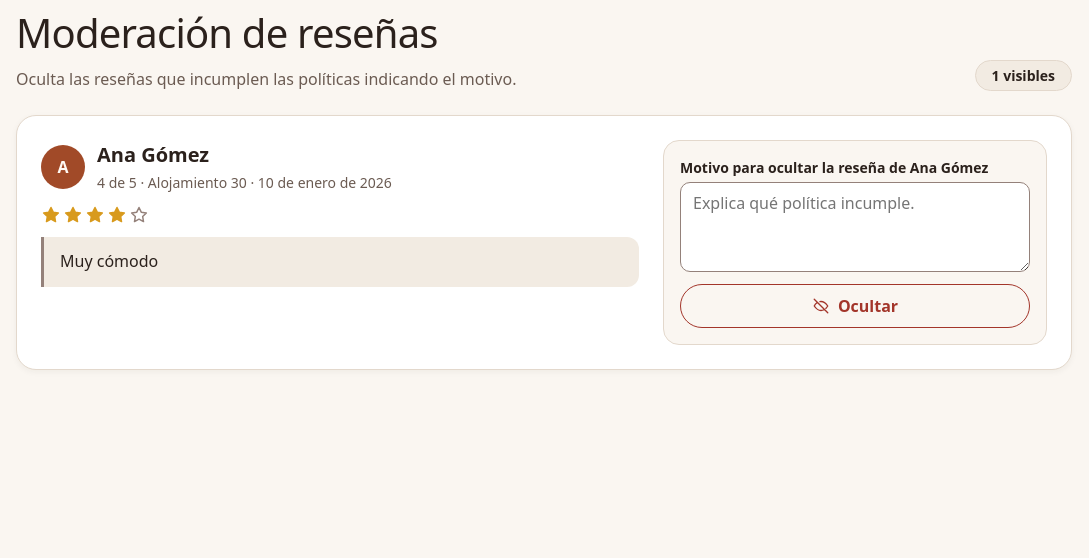
Scenario: ModeracionResenasPage › si la API rechaza la acción muestra su mensaje y conserva la reseña
Type "Ofensiva" into the text box labelled "Motivo para ocultar la reseña de Ana Gómez" at (855, 227), box [680,182,1030,272]
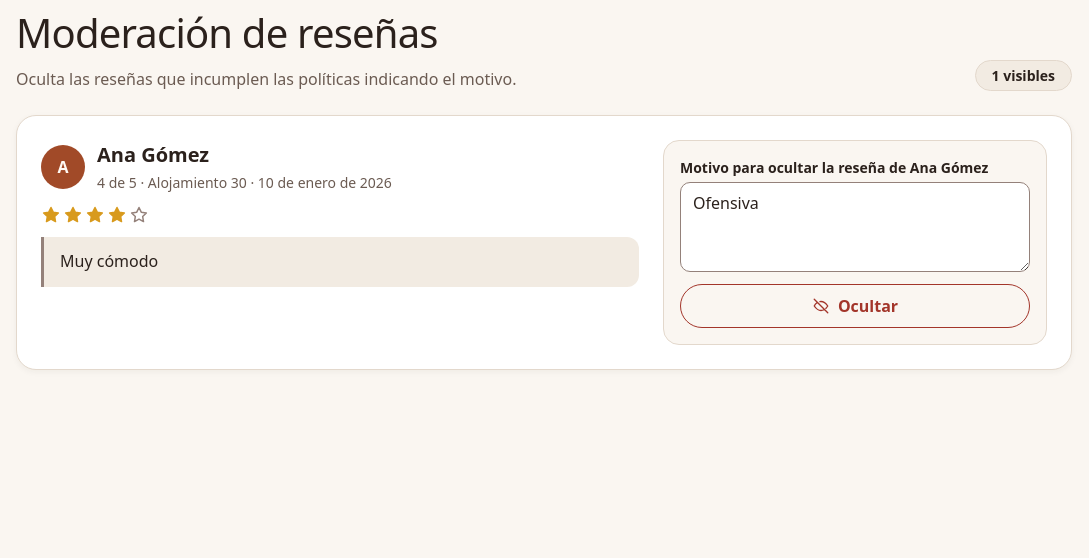
Click the button with aria-label "Ocultar la reseña de Ana Gómez" at (855, 306), box [680,284,1030,328]
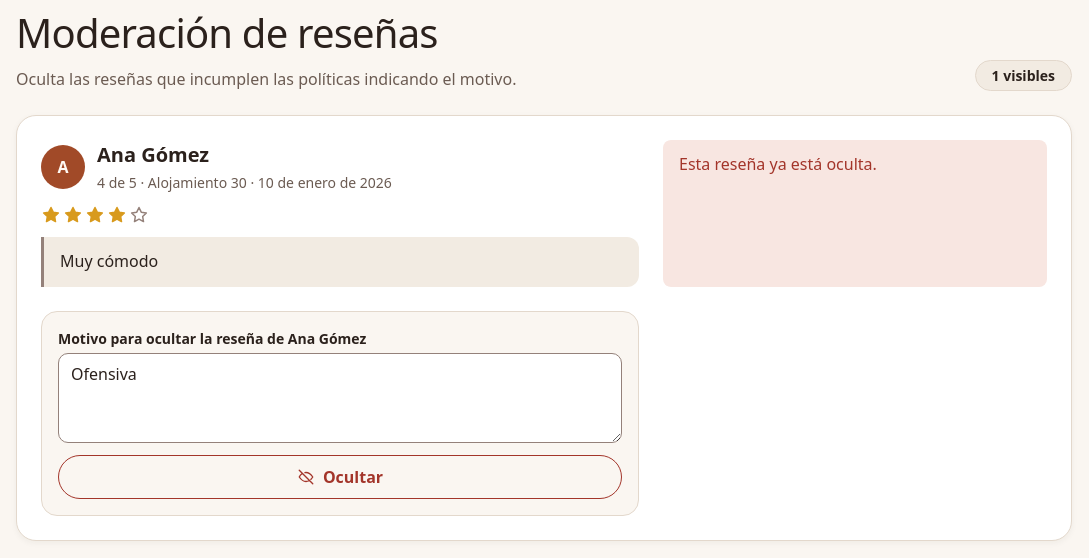
Expected: the heading "Ana Gómez" is shown, [97,141,209,168]
Now the message reads "Esta reseña ya está oculta.", box [679,153,877,175]
